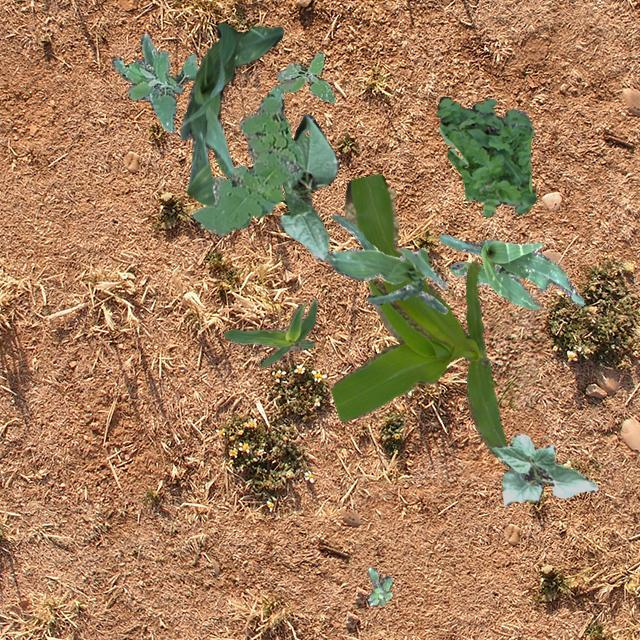crop: (330, 174, 507, 454), (178, 22, 282, 206), (322, 212, 447, 312), (438, 233, 584, 309), (278, 112, 338, 260), (489, 432, 596, 504), (222, 298, 318, 367), (449, 260, 519, 284)
weed: (192, 84, 302, 234), (436, 96, 536, 216), (110, 32, 196, 132), (274, 50, 334, 101), (366, 566, 392, 606)
